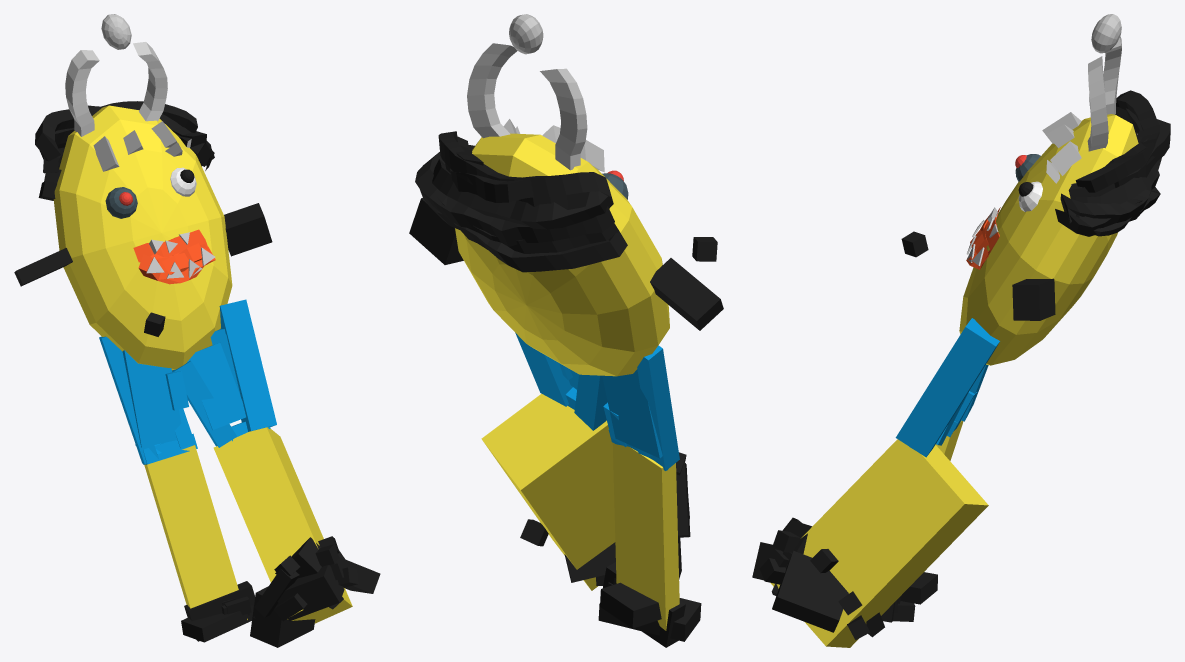
File: Enemy_Riley.fbx
3 renders of one model, left to right at view 1: azimuth 30°, elevation 25°; view 2: azimuth 150°, elevation 25°; view 3: azimuth 270°, elevation 25°, orthographic. The views are drawn at different scales.
Parts seen in each view (by area): view 1: mesh_1311120018, mesh_1835198254, mesh_1922419062, mesh_2123725606, mesh_360248763, mesh_1653625247, group_1209815283, group_1826495097, mesh_538655843, mesh_1470798627, mesh_810179858, mesh_81538964 (+15 smaller); view 2: mesh_1311120018, mesh_1835198254, group_1209815283, mesh_1922419062, group_215923523, mesh_360248763, mesh_1006157679, mesh_81538964, group_61004363, group_1826495097, mesh_1470798627, mesh_1194967503 (+13 smaller); view 3: mesh_1835198254, mesh_1311120018, group_1209815283, mesh_2123725606, mesh_1664164049, mesh_1470798627, group_61004363, group_1826495097, mesh_575581458, group_1820690321, group_919410456, mesh_1194967503 (+1 smaller).
Part boxes in pixels (x1,y1,x2,y2): mesh_1311120018: (53, 105, 232, 370); mesh_1835198254: (213, 427, 352, 623); mesh_1922419062: (144, 445, 247, 619); mesh_2123725606: (219, 299, 276, 431); mesh_360248763: (122, 350, 181, 447); mesh_1653625247: (187, 343, 245, 429); group_1209815283: (35, 101, 214, 173); group_1826495097: (65, 50, 99, 136); mesh_538655843: (277, 565, 344, 621); mesh_1470798627: (224, 203, 272, 256); mesh_810179858: (250, 586, 315, 647); mesh_81538964: (99, 336, 158, 464); mesh_1311120018: (455, 133, 669, 376); mesh_1835198254: (481, 393, 615, 590); group_1209815283: (415, 131, 614, 246); mesh_1922419062: (612, 443, 679, 630); group_215923523: (420, 190, 627, 272); mesh_360248763: (602, 369, 662, 458); mesh_1006157679: (650, 258, 723, 330); mesh_81538964: (637, 345, 679, 470); group_61004363: (467, 43, 517, 138); group_1826495097: (540, 68, 587, 170); mesh_1470798627: (409, 198, 463, 264); mesh_1194967503: (600, 582, 661, 628); mesh_1835198254: (770, 439, 988, 647); mesh_1311120018: (959, 114, 1138, 365); group_1209815283: (1060, 90, 1161, 223); mesh_2123725606: (895, 318, 999, 457); mesh_1664164049: (772, 550, 848, 632); mesh_1470798627: (1012, 278, 1055, 320); group_61004363: (1087, 56, 1108, 151); group_1826495097: (1103, 36, 1121, 114); mesh_575581458: (1091, 14, 1121, 53); group_1820690321: (1114, 119, 1170, 187); group_919410456: (1055, 188, 1151, 236); mesh_1194967503: (900, 572, 937, 604).
Size of the model in its own units: 90.95 by 195 by 123.
